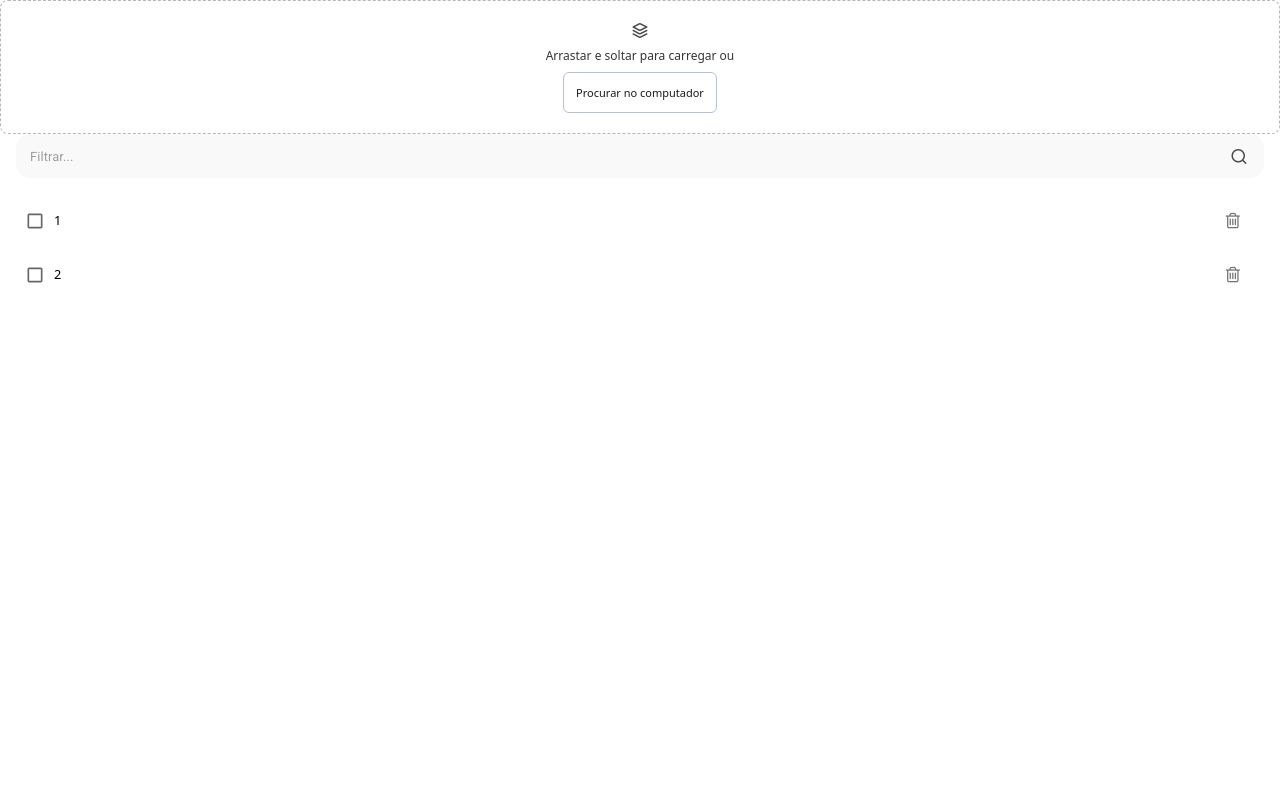
Test: PdfUpload › deve abrir o modal excluir arquivo quando o botão excluir for clicado
The image size is (1280, 800).
Click the 1st button with test id "file-upload-trash-btn".
click(1233, 221)  # box [1218,204,1248,238]
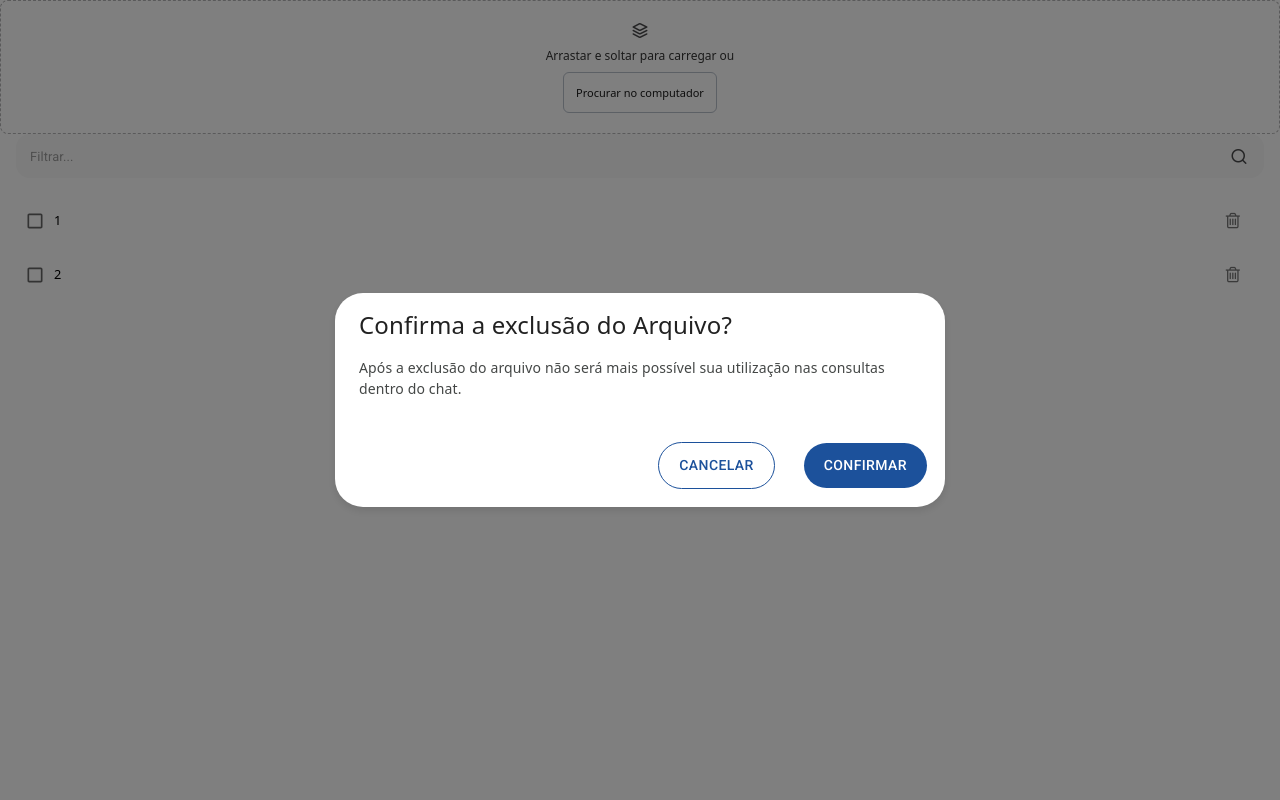
expect the heading "Confirma a exclusão do Arquivo?" is shown: met, box [359,308,732,341]
